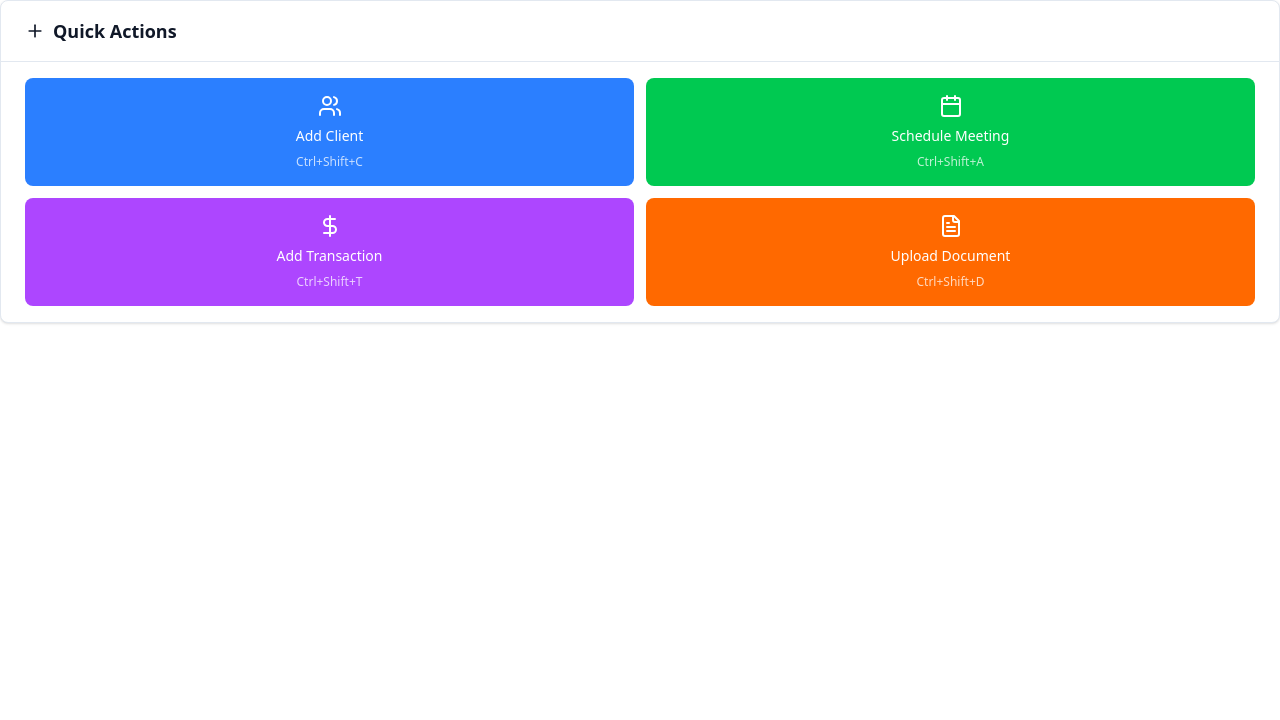
Test: QuickActions › Client Modal › opens client modal when button is clicked
The width and height of the screenshot is (1280, 720).
Click the button "Add Client Ctrl+Shift+C" at (330, 132), box [25,78,634,186]
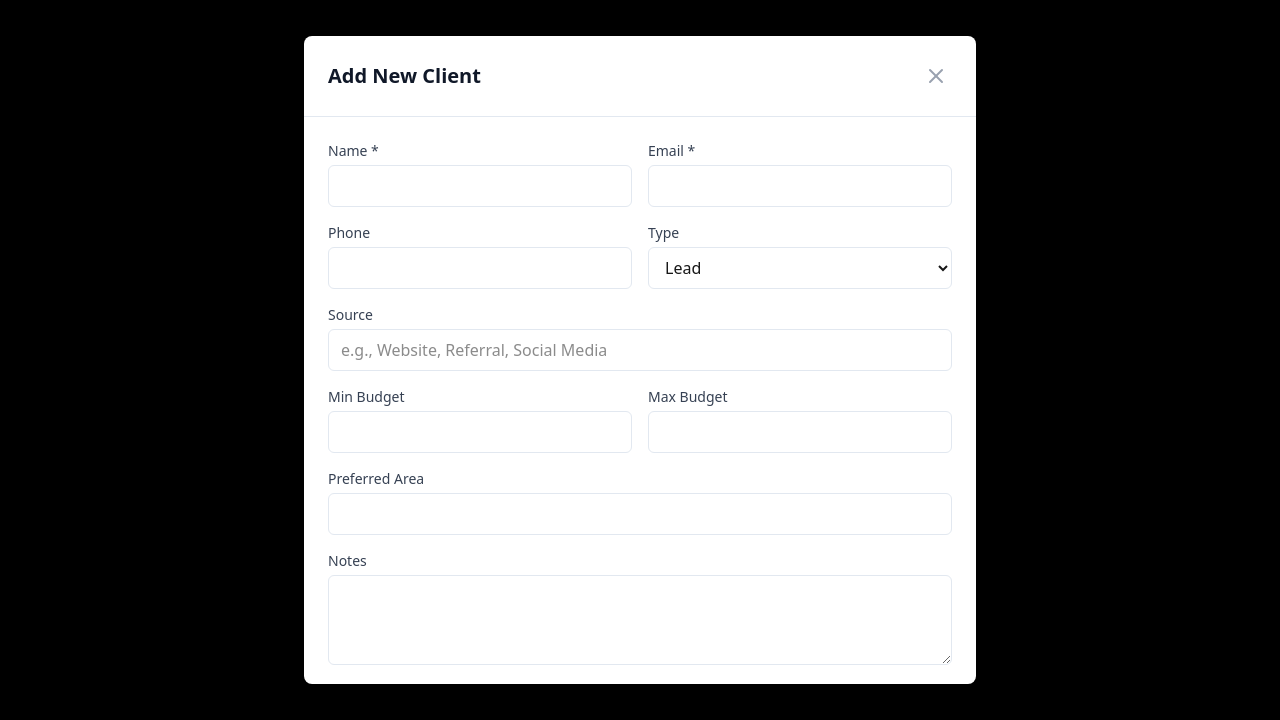
expect the dialog "Add New Client" is shown: met, box [304,36,976,684]
expect the field labelled "Name *" is shown: met, box [328,165,632,207]
expect the field labelled "Email *" is shown: met, box [648,165,952,207]
